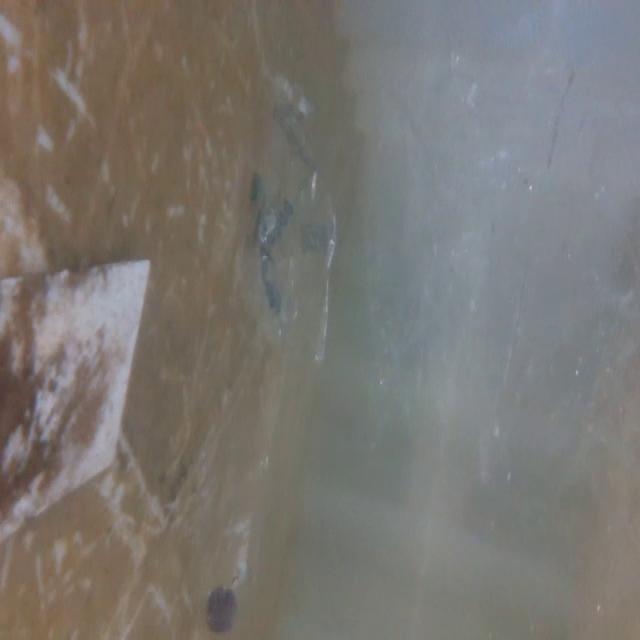metal: (0, 256, 161, 533)
plastic bags: (380, 0, 640, 585), (223, 82, 358, 400)
plastic bottle: (192, 414, 294, 639)
